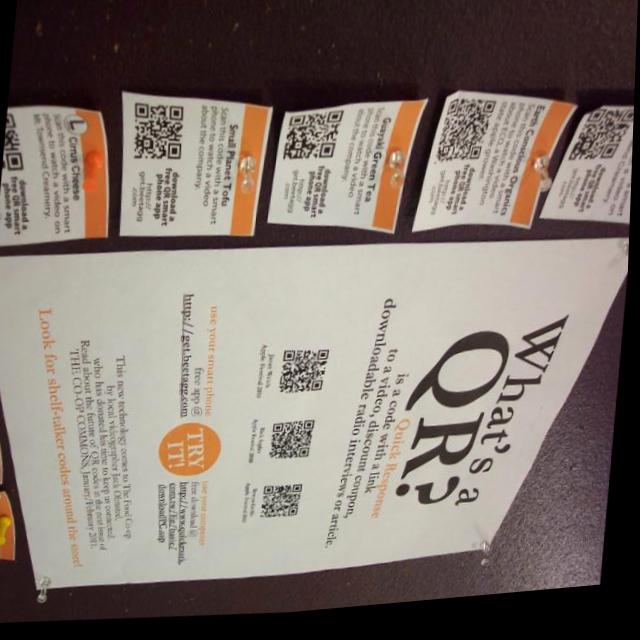qrcode: (437, 104, 498, 176), (570, 116, 636, 176), (131, 103, 187, 167), (285, 115, 345, 169), (282, 354, 332, 402), (272, 425, 318, 467), (3, 113, 29, 173), (264, 490, 307, 525)
